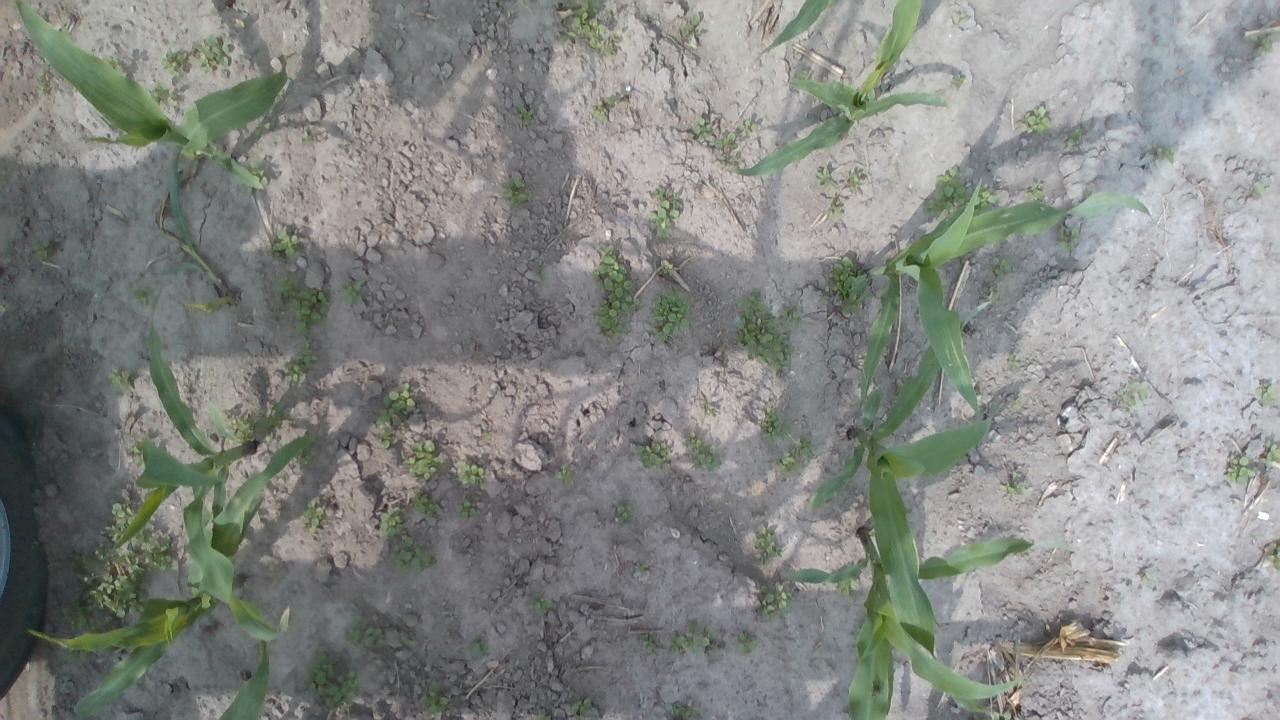Maize: (31, 429, 317, 720), (809, 304, 992, 720), (851, 179, 1150, 407), (116, 292, 294, 642), (16, 0, 286, 190), (778, 522, 1034, 720), (732, 0, 949, 175), (149, 144, 235, 314), (754, 0, 832, 56), (220, 638, 270, 720)
Weeds: (57, 502, 182, 635), (733, 289, 795, 371), (590, 244, 643, 338), (303, 646, 360, 710), (271, 276, 329, 336), (565, 0, 620, 55), (826, 256, 872, 316), (926, 164, 972, 221), (372, 382, 416, 430), (652, 288, 689, 344), (669, 622, 722, 658), (648, 186, 682, 240), (389, 536, 437, 572), (402, 439, 444, 480), (189, 34, 230, 71), (686, 432, 721, 472), (346, 614, 384, 650), (756, 582, 792, 618), (284, 346, 318, 384), (760, 408, 793, 442), (635, 439, 669, 472), (753, 527, 783, 563), (160, 48, 192, 79), (419, 680, 449, 712), (502, 176, 532, 207), (146, 80, 178, 109), (1022, 105, 1053, 134), (1226, 455, 1254, 487), (270, 231, 299, 261), (1249, 27, 1277, 58), (339, 278, 368, 305), (380, 507, 406, 537), (301, 493, 322, 529), (256, 401, 284, 428), (413, 494, 442, 520), (100, 54, 130, 79), (109, 366, 136, 393), (243, 159, 270, 186), (456, 462, 484, 487), (1118, 382, 1147, 406), (231, 413, 256, 440), (528, 592, 556, 616), (736, 630, 761, 656), (792, 432, 816, 459), (1000, 470, 1024, 496), (679, 14, 704, 38), (570, 694, 593, 720), (974, 186, 998, 210), (777, 454, 800, 479), (981, 283, 1007, 305), (708, 132, 736, 152), (61, 648, 96, 664), (1056, 227, 1078, 252), (671, 702, 701, 720), (126, 438, 145, 465), (692, 118, 713, 142), (1063, 127, 1084, 151), (990, 256, 1014, 276), (468, 637, 490, 658), (1024, 178, 1044, 201), (835, 576, 859, 595), (1259, 382, 1278, 406), (1262, 441, 1280, 466), (454, 500, 476, 520), (34, 72, 50, 98), (641, 632, 658, 656), (514, 101, 534, 121), (612, 503, 634, 521), (1154, 144, 1176, 162), (376, 430, 396, 449), (784, 306, 800, 328), (848, 169, 864, 190), (738, 119, 756, 137), (128, 286, 146, 304), (295, 447, 313, 465), (255, 121, 272, 139), (1269, 543, 1280, 570), (555, 468, 576, 482), (816, 167, 832, 185), (32, 238, 48, 256), (636, 560, 651, 578), (592, 107, 610, 121), (1008, 352, 1022, 368), (704, 403, 719, 417), (828, 204, 844, 217), (951, 74, 965, 88), (400, 634, 416, 646), (662, 262, 673, 276), (796, 70, 811, 80), (1253, 183, 1267, 192), (1140, 573, 1151, 584), (606, 95, 618, 105), (1002, 711, 1014, 720), (0, 304, 9, 312), (1084, 190, 1092, 197)
